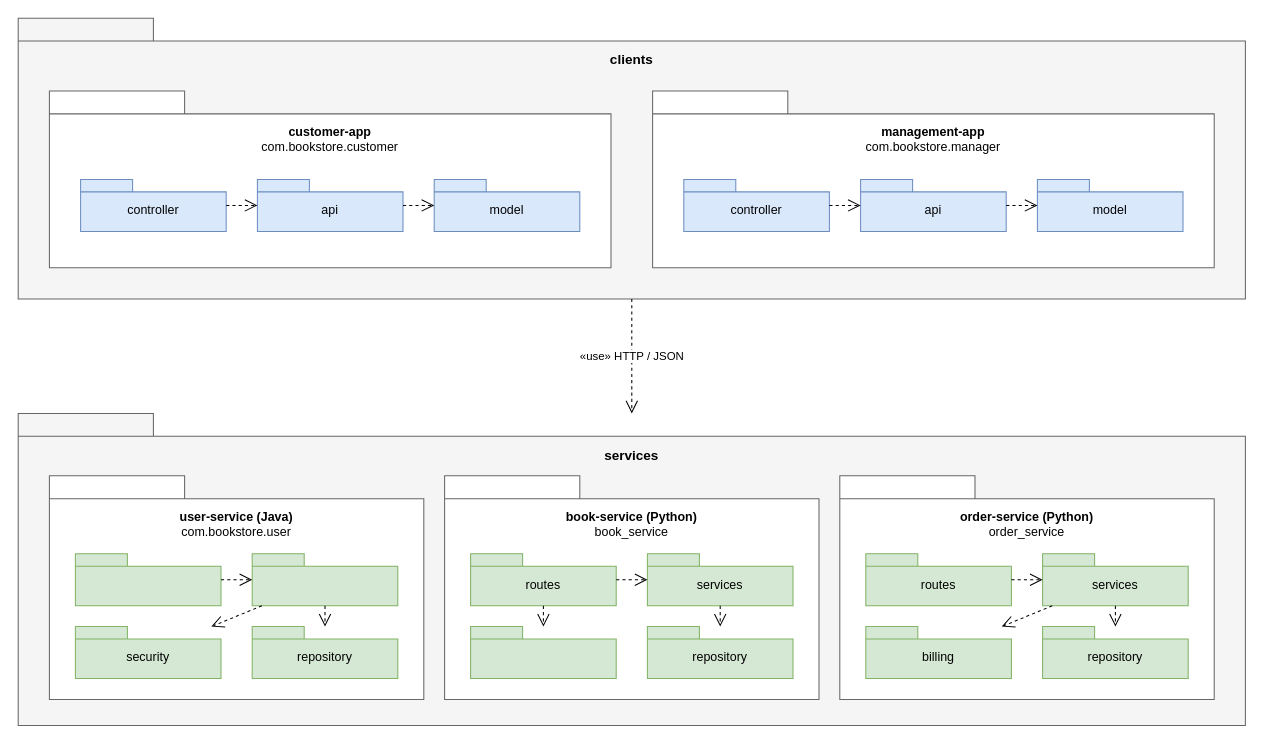
The diagram is 1264 pixels wide and 744 high, and some of its shapes have lost their labels. Each missing label, with the centre of its shape:
auth: point 543,652
handler: point 147,579
service: point 324,579
